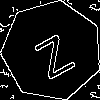Z: (27, 25, 77, 80)
